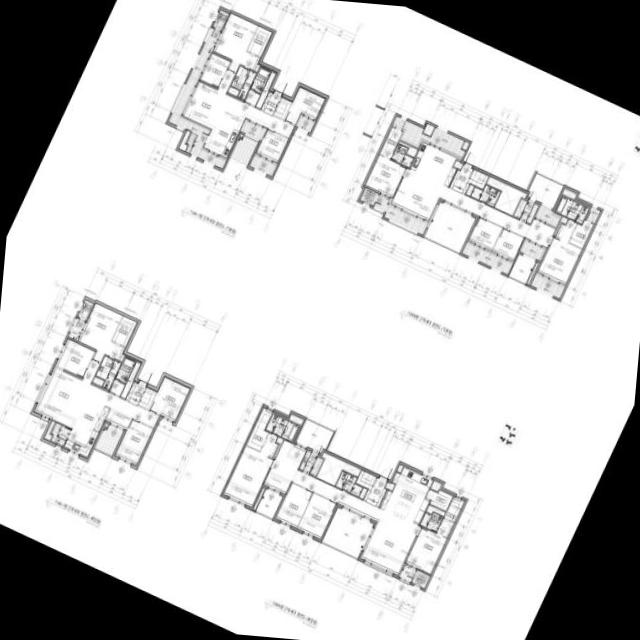background: (0, 0, 640, 640)
space_balconi: (168, 28, 225, 168), (392, 116, 465, 157), (321, 507, 373, 558), (424, 202, 475, 252), (373, 195, 427, 235), (461, 242, 512, 274), (296, 420, 333, 453), (528, 174, 562, 208), (530, 274, 564, 299), (229, 136, 257, 165), (94, 426, 122, 455), (255, 489, 282, 518), (509, 254, 535, 283), (299, 451, 323, 476), (513, 199, 538, 223), (249, 155, 276, 176), (535, 205, 559, 226), (50, 422, 70, 446), (520, 241, 544, 260), (241, 121, 263, 140), (68, 318, 84, 340), (398, 565, 415, 582), (296, 116, 314, 132), (586, 206, 600, 222)
space_bedroom: (223, 433, 278, 506), (537, 220, 581, 284), (213, 13, 259, 73), (78, 303, 124, 363), (405, 518, 453, 574), (149, 377, 190, 421), (297, 493, 336, 539), (115, 419, 153, 465), (365, 155, 405, 197), (275, 483, 312, 528), (284, 87, 325, 125), (55, 339, 94, 377), (468, 217, 501, 250), (256, 129, 288, 163), (199, 53, 229, 87), (492, 228, 523, 260)
space_dressroom: (246, 408, 272, 451), (111, 316, 137, 347), (247, 26, 272, 57), (379, 127, 402, 160), (569, 220, 593, 248), (443, 497, 464, 522)
space_front: (449, 162, 472, 194), (363, 478, 386, 506), (261, 92, 281, 116), (125, 382, 145, 406)
space_kitchen: (380, 467, 432, 524), (64, 398, 109, 457), (410, 142, 460, 186), (203, 108, 244, 158)
space_living_room: (263, 440, 420, 575), (391, 168, 555, 247), (34, 360, 159, 428), (180, 69, 294, 138)
space_other: (486, 177, 526, 215), (316, 452, 360, 485), (255, 72, 276, 109), (120, 362, 141, 398), (105, 408, 131, 430), (426, 490, 452, 511), (355, 470, 376, 490), (273, 97, 292, 119), (467, 170, 488, 189), (138, 388, 156, 409), (398, 140, 417, 157), (526, 262, 538, 285), (252, 488, 264, 510), (178, 130, 190, 151), (244, 90, 259, 106), (109, 380, 124, 396), (554, 217, 567, 235), (43, 420, 54, 441), (426, 505, 445, 516), (273, 437, 283, 457), (289, 415, 303, 425), (562, 189, 576, 199), (423, 124, 434, 136), (430, 481, 441, 491), (227, 87, 239, 96), (359, 488, 367, 499), (465, 185, 473, 196), (385, 482, 394, 491), (453, 160, 462, 169), (462, 141, 469, 150), (254, 63, 260, 72), (397, 465, 403, 472), (119, 354, 124, 362), (104, 423, 108, 427), (239, 134, 243, 137)
space_outdoor_room: (411, 570, 430, 589), (359, 187, 378, 206), (212, 10, 228, 30), (77, 300, 93, 320)
space_toilet: (92, 356, 120, 389), (555, 196, 588, 224), (265, 414, 298, 441), (231, 66, 255, 100), (335, 471, 362, 496), (470, 185, 500, 206), (250, 67, 270, 93), (115, 357, 135, 383), (391, 144, 413, 167), (419, 513, 442, 532)
